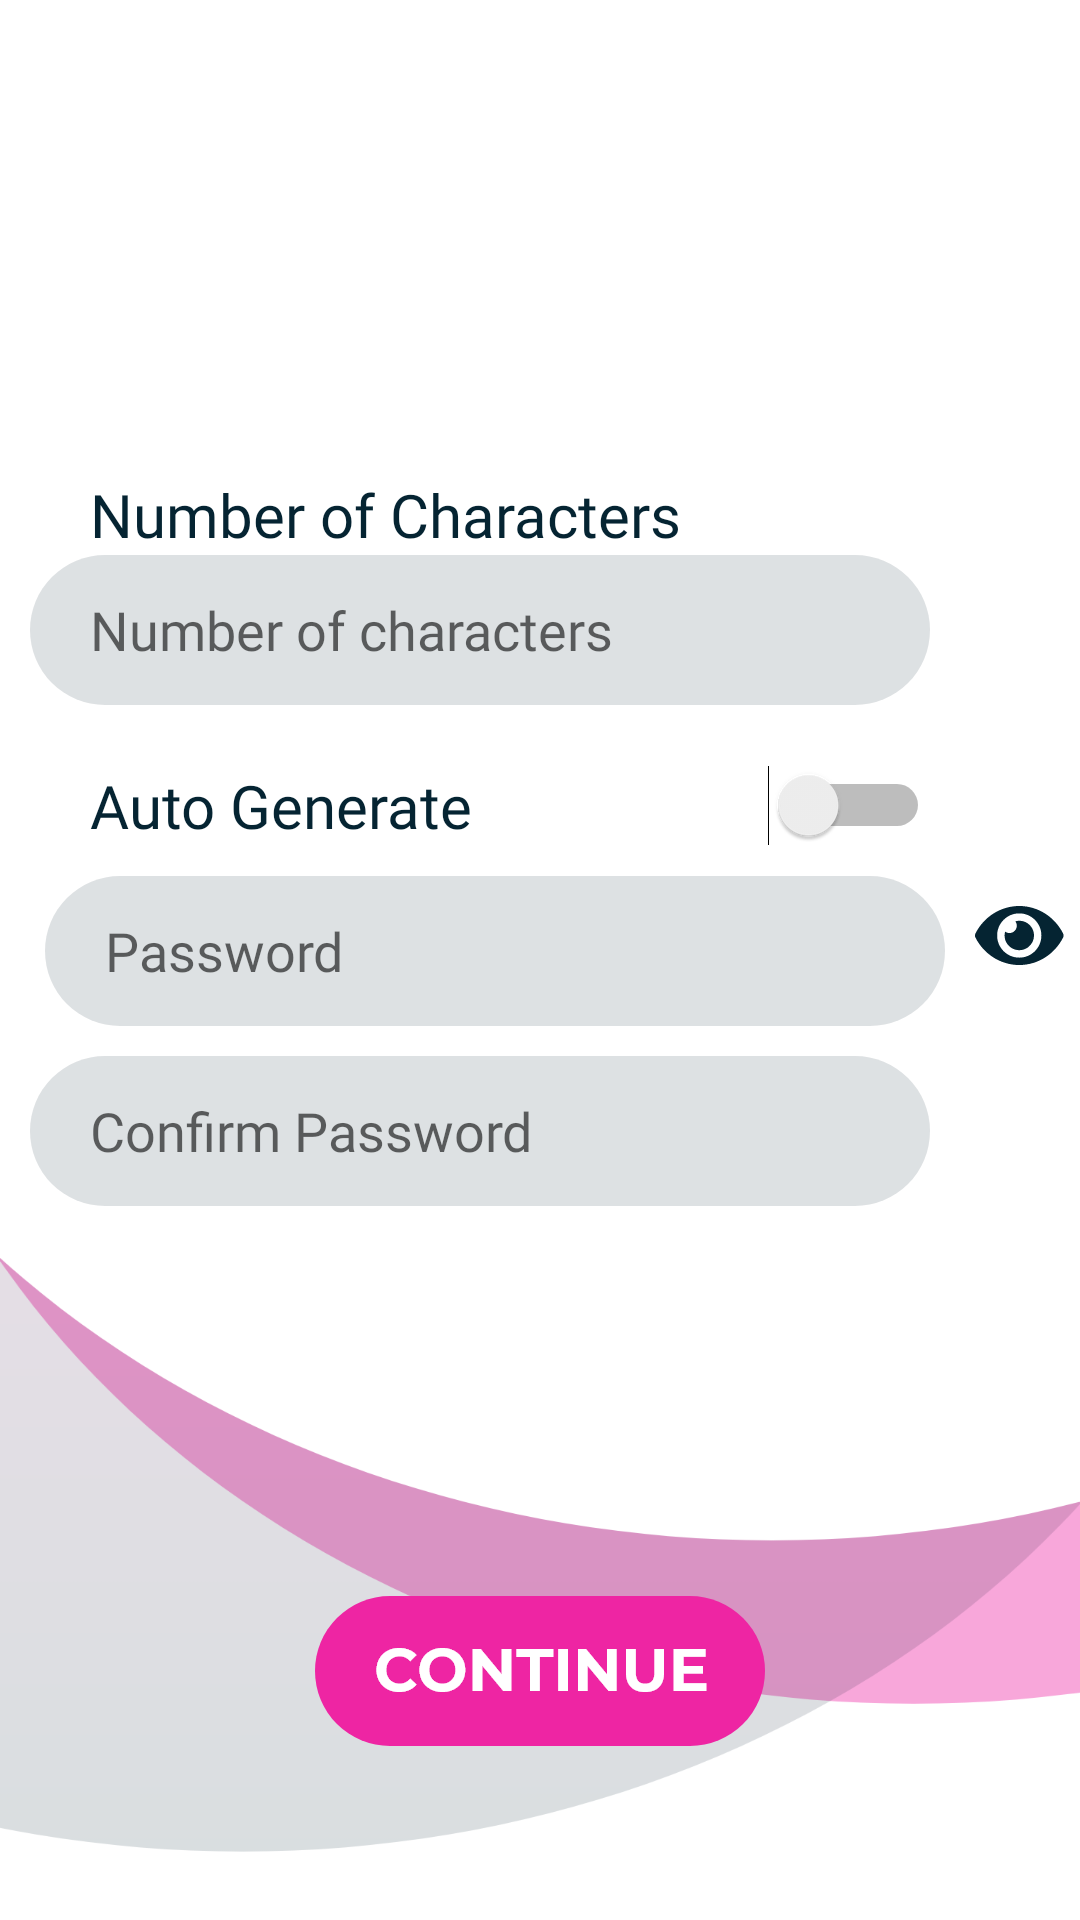

Point at icon controls on the screen. Image size 1080*1920, points as (x,y).
eye: (1019,935)
